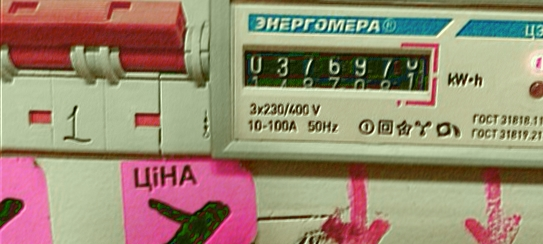0: (246, 51, 260, 73)
1: (403, 70, 414, 90)
3: (274, 55, 288, 76)
6: (325, 51, 340, 75)
7: (299, 52, 314, 76), (377, 55, 392, 78)
9: (351, 54, 365, 76)
screen: (232, 31, 441, 108)
